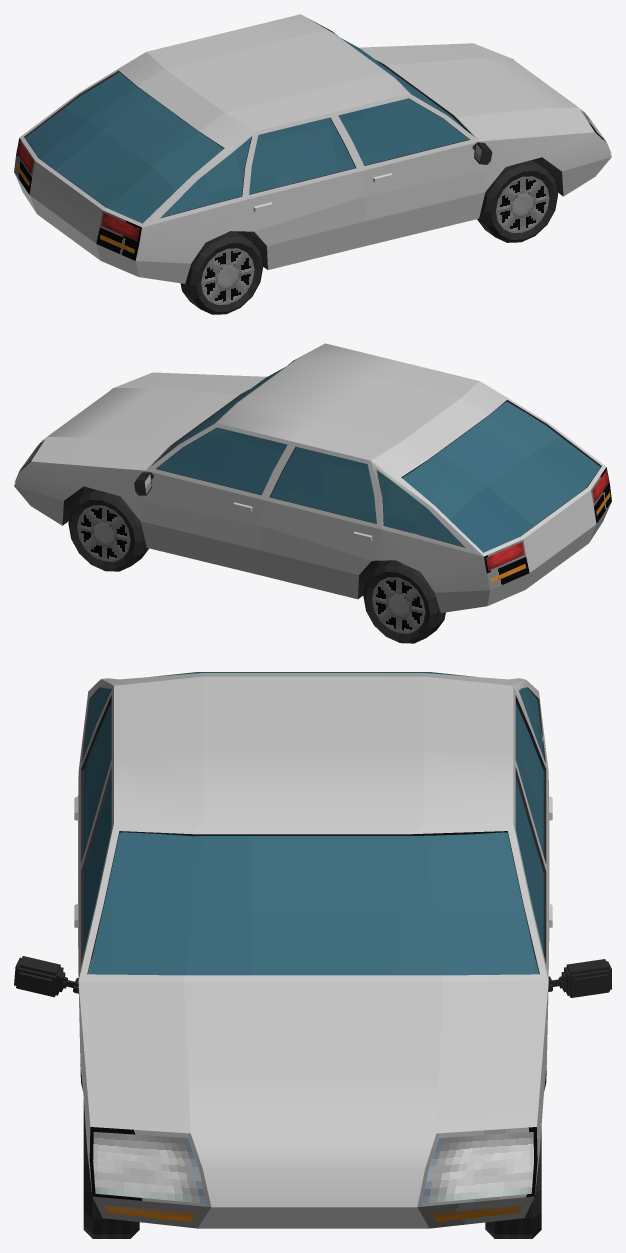
File: Cherry_Flare_EV_Toy.fbx
The picture shows the model from 3 angles, top to bottom: view 1: azimuth 30°, elevation 25°; view 2: azimuth 150°, elevation 25°; view 3: azimuth 270°, elevation 25°; orthographic projection. The views are drawn at different scales.
Visible parts, largest first — view 1: Cherry_Flare_Toy, Tire_RR, Tire_FR; view 2: Cherry_Flare_Toy, Tire_RL, Tire_FL; view 3: Cherry_Flare_Toy, Tire_FR, Tire_FL.
Part boxes in pixels (bbox=[...]): Cherry_Flare_Toy: bbox=[14, 14, 611, 283]; Tire_RR: bbox=[180, 231, 263, 314]; Tire_FR: bbox=[477, 160, 557, 242]; Cherry_Flare_Toy: bbox=[14, 343, 611, 612]; Tire_RL: bbox=[363, 560, 445, 643]; Tire_FL: bbox=[68, 489, 148, 571]; Cherry_Flare_Toy: bbox=[14, 672, 611, 1228]; Tire_FR: bbox=[83, 1100, 139, 1238]; Tire_FL: bbox=[485, 1128, 541, 1238].
Size of the model in its own units: 272 by 89.39 by 153.
Materials: 2 (1 with a texture image).
